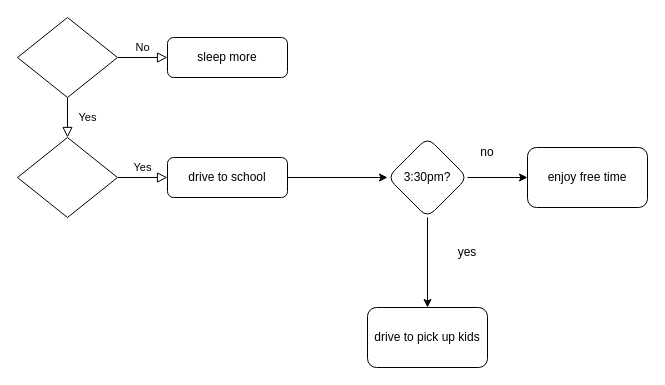
Image size: 665x385. Some labels were removed from this diagram. The shapes that lost their labels are listed below. From the top down, each one's centre as x and y in pixels, then its label:
At (x=67, y=57): "weekday？".
At (x=67, y=177): "ready for school?".
